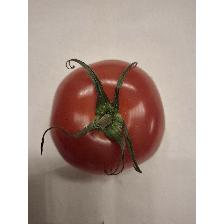Tomate: (41, 50, 170, 178)
